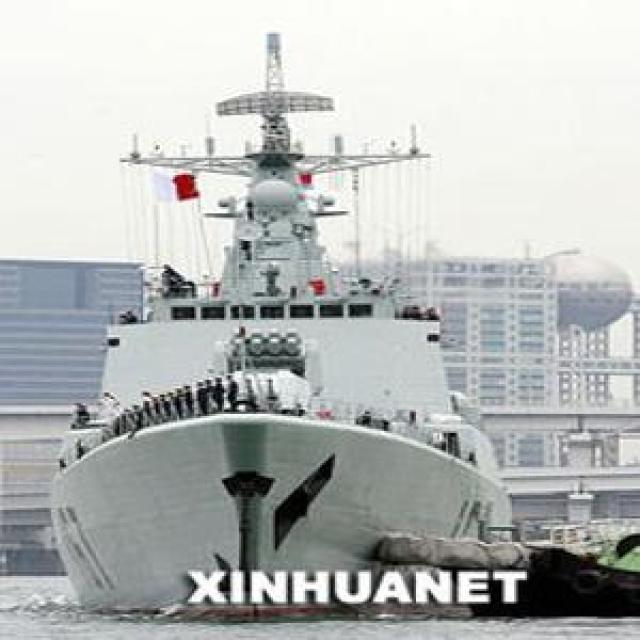navalvessels: (39, 26, 527, 622)
